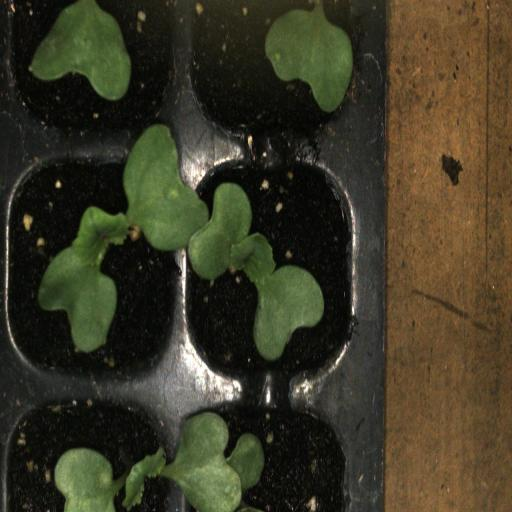Folha: (29, 0, 131, 101), (264, 8, 353, 113)
Germinacao: (180, 144, 372, 392), (5, 145, 181, 387), (5, 393, 179, 512)
